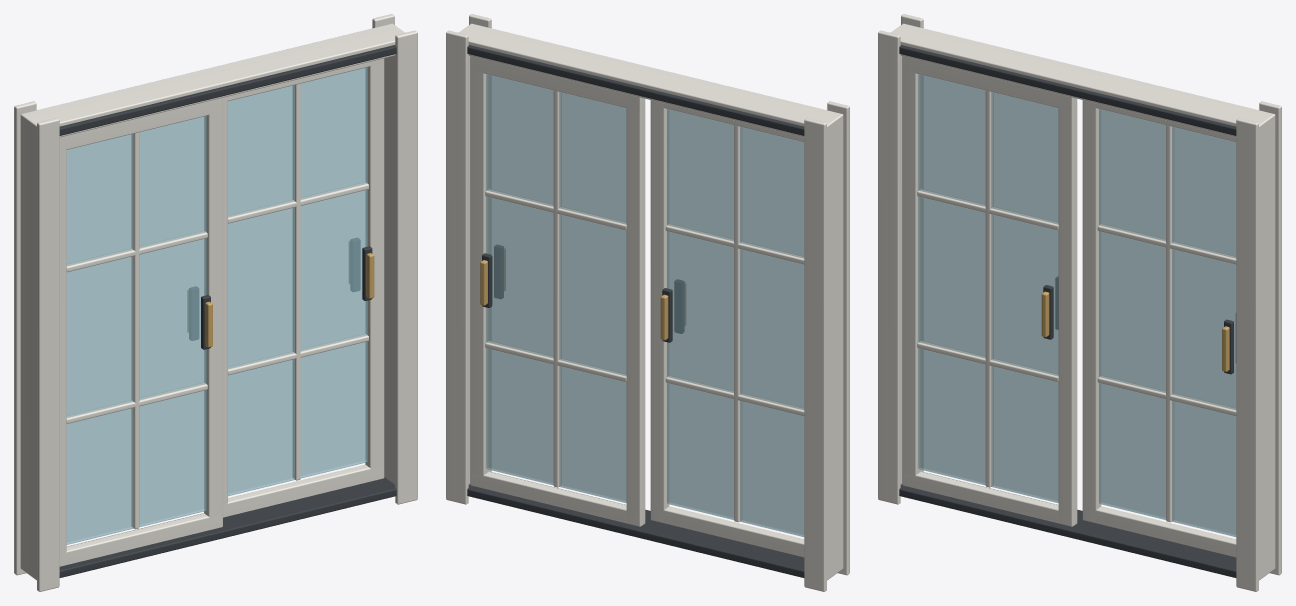
File: door-sliding-grid.glb
3 renders of one model, left to right at view 1: azimuth 30°, elevation 25°; view 2: azimuth 150°, elevation 25°; view 3: azimuth 330°, elevation 25°, orthographic.
Visible parts, largest first — view 1: Door glazing.005, Door glazing.006, Architrave.048, Architrave.050, Lintel.012, Jamb.024, Stile.013, Stile.011, Twin track.002, Jamb.025, Glazing bar.006, Glazing bar.009 (+14 smaller); view 2: Door glazing.006, Door glazing.005, Architrave.049, Architrave.051, Lintel.012, Stile.012, Jamb.024, Stile.011, Stile.013, Twin track.002, Glazing bar.009, Architrave.048 (+14 smaller); view 3: Door glazing.005, Door glazing.006, Architrave.050, Architrave.048, Lintel.012, Stile.011, Stile.012, Stile.010, Jamb.025, Twin track.002, Glazing bar.006, Architrave.051 (+12 smaller).
Boxes of the visible parts, box(x1,y1,x2,y2) form: Door glazing.005: box(66, 116, 206, 544); Door glazing.006: box(228, 67, 367, 496); Architrave.048: box(37, 118, 59, 591); Architrave.050: box(395, 30, 417, 504); Lintel.012: box(21, 23, 404, 137); Jamb.024: box(20, 115, 36, 580); Stile.013: box(365, 62, 384, 478); Stile.011: box(204, 97, 222, 524); Twin track.002: box(59, 477, 396, 577); Jamb.025: box(384, 56, 395, 484); Glazing bar.006: box(131, 132, 139, 529); Glazing bar.009: box(292, 83, 300, 480); Door glazing.006: box(486, 74, 626, 503); Door glazing.005: box(667, 109, 804, 537); Architrave.049: box(804, 118, 826, 591); Architrave.051: box(446, 30, 468, 504); Lintel.012: box(459, 23, 843, 137); Stile.012: box(626, 94, 645, 524); Jamb.024: box(827, 116, 843, 580); Stile.011: box(650, 100, 669, 520); Stile.013: box(470, 56, 488, 485); Twin track.002: box(467, 472, 804, 577); Glazing bar.009: box(553, 90, 561, 487); Architrave.048: box(827, 101, 849, 575); Door glazing.005: box(918, 74, 1058, 503); Door glazing.006: box(1099, 109, 1236, 537); Architrave.050: box(1236, 118, 1258, 591); Architrave.048: box(878, 30, 900, 504); Lintel.012: box(891, 23, 1275, 137); Stile.011: box(1058, 97, 1077, 524); Stile.012: box(1082, 100, 1101, 520); Stile.010: box(902, 56, 920, 485); Jamb.025: box(1259, 116, 1275, 580); Twin track.002: box(899, 472, 1236, 577); Glazing bar.006: box(985, 90, 993, 487); Architrave.051: box(1259, 101, 1281, 575).
Size of the model in its own units: 1.83 by 2.16 by 0.26.
